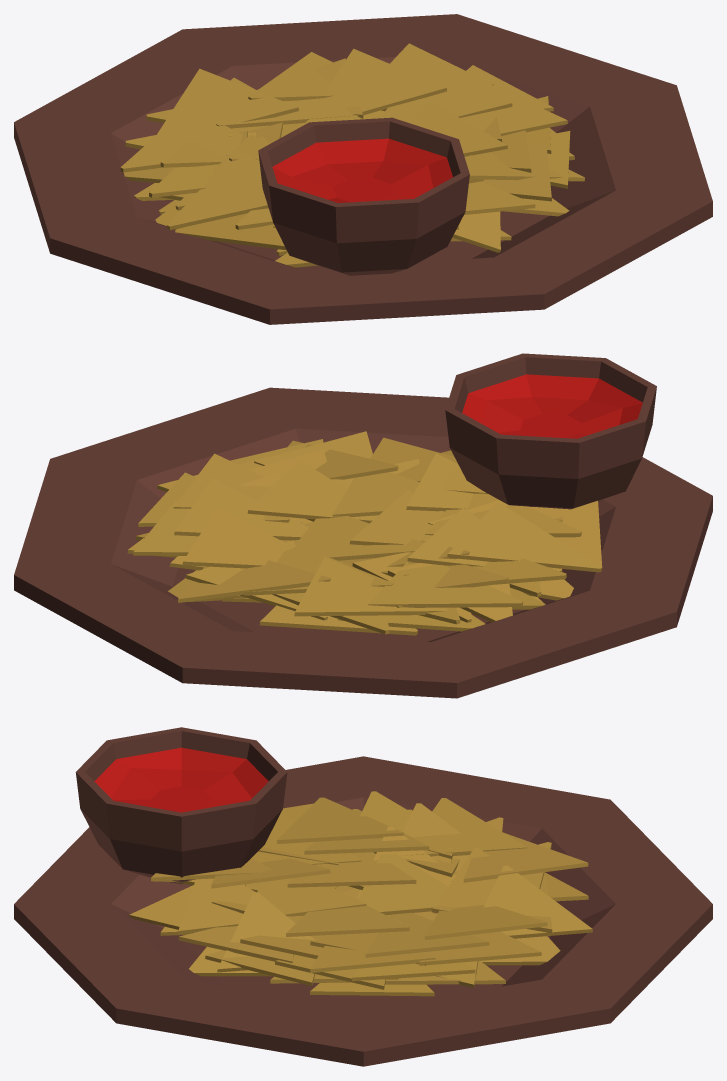
The model's file is Nachos.fbx.
3 views of the same model, one above another, from view 1: azimuth 30°, elevation 25°; view 2: azimuth 150°, elevation 25°; view 3: azimuth 270°, elevation 25° (orthographic). The views are drawn at different scales.
Visible parts, largest first — view 1: Nachos, Salsa; view 2: Nachos, Salsa; view 3: Nachos, Salsa.
Boxes of the visible parts, box(x1,y1,x2,y2) form: Nachos: box(14, 14, 712, 324); Salsa: box(258, 117, 469, 275); Nachos: box(14, 387, 712, 698); Salsa: box(445, 353, 656, 509); Nachos: box(14, 756, 712, 1066); Salsa: box(75, 727, 287, 884).
Bounding box in the file's own units: 3.12 × 0.6488 × 3.12.
